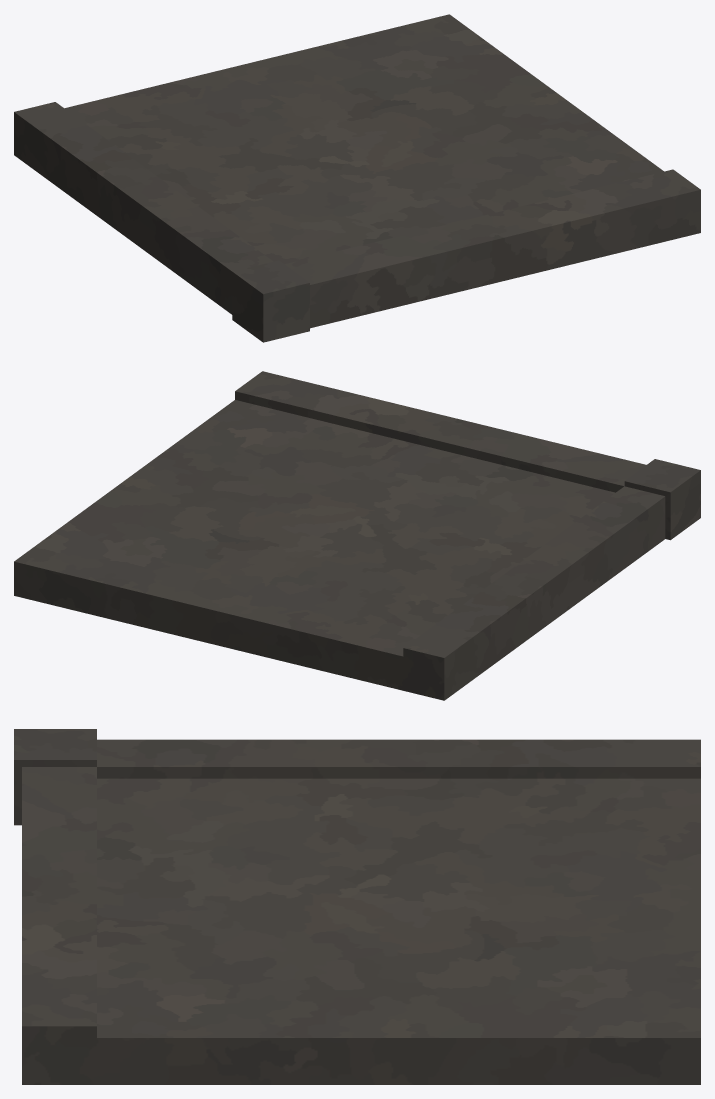
The model's file is Toit modulaire en coin.fbx.
The picture shows the model from 3 angles, top to bottom: view 1: azimuth 30°, elevation 25°; view 2: azimuth 150°, elevation 25°; view 3: azimuth 270°, elevation 25°; orthographic projection. The views are drawn at different scales.
Parts seen in each view (by area): view 1: Box005; view 2: Box005; view 3: Box005.
Boxes of the visible parts, left/top/right/bottom form: Box005: left=14, top=14, right=700, bottom=342; Box005: left=14, top=371, right=700, bottom=700; Box005: left=14, top=729, right=700, bottom=1084.
Bounding box in the file's own units: 304 × 31.89 × 304.
